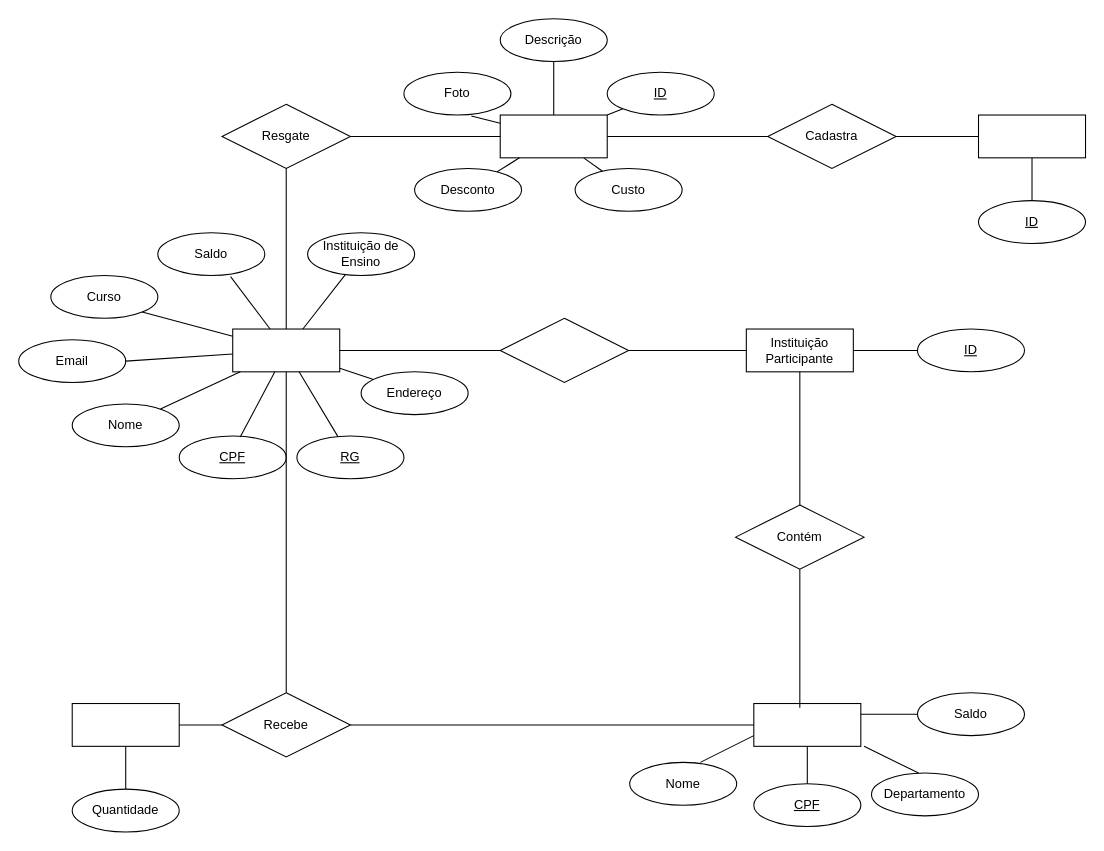
Some shapes in this 1104 by 851 pixel diagram are drawn without their labels. The box of each missing label's shape, as (x1, y1, x2, y2) in pixels:
Aluno: (232, 328, 340, 372)
Empresa: (977, 114, 1086, 158)
Moeda: (71, 702, 179, 746)
Professor: (753, 702, 861, 746)
Selecionar: (499, 317, 629, 383)
Vantagem: (499, 114, 607, 158)
